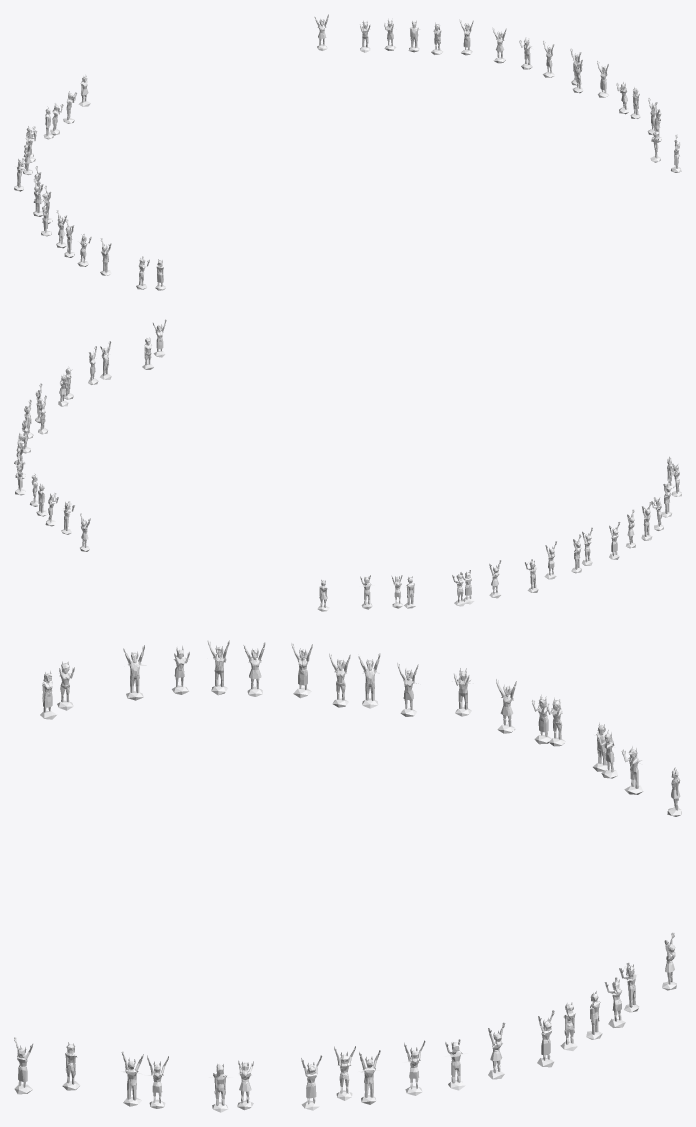
Rendered from Statues_2.obj.
3 renders of one model, top to bottom at view 1: azimuth 30°, elevation 25°; view 2: azimuth 150°, elevation 25°; view 3: azimuth 270°, elevation 25°, orthographic. The views are drawn at different scales.
Visible parts, largest first — view 1: Statues_2; view 2: Statues_2; view 3: Statues_2.
Boxes of the visible parts, bbox=[...] form: Statues_2: bbox=[14, 14, 681, 290]; Statues_2: bbox=[14, 319, 681, 611]; Statues_2: bbox=[14, 640, 681, 1112].
Bounding box in the file's own units: 51.73 × 3.01 × 34.38.
Materials: 1 (1 with a texture image).
